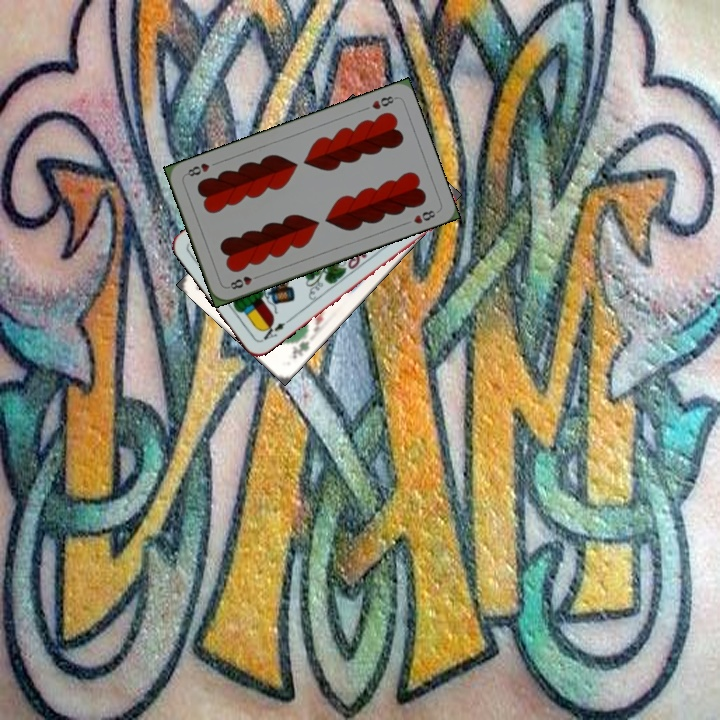EA: (257, 315, 293, 344)
GK: (288, 336, 312, 362)
H8: (224, 271, 263, 292), (368, 92, 398, 112)
